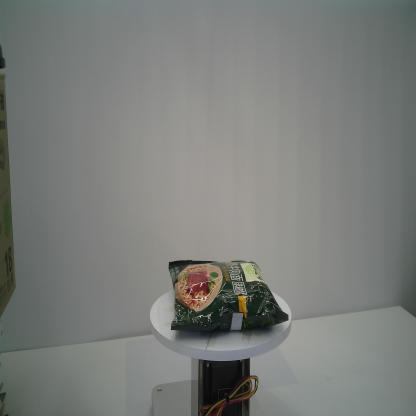Instant Noodles: (165, 256, 290, 337)
